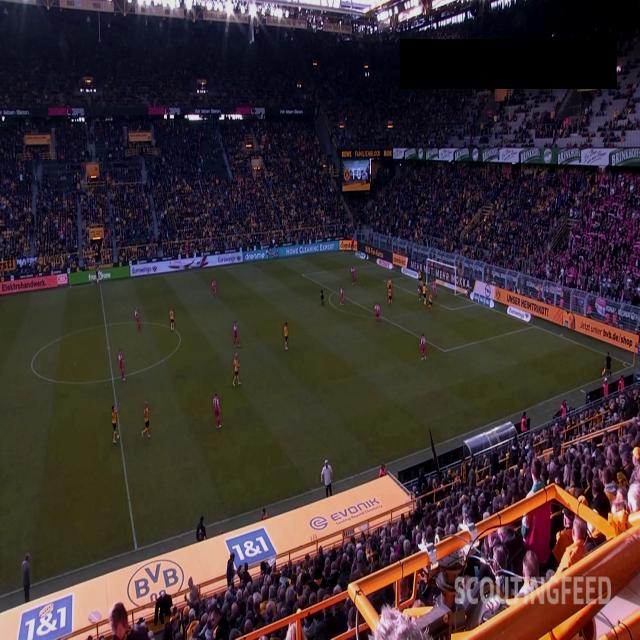ball: (418, 288, 420, 292)
f_player: (110, 400, 122, 444), (140, 398, 152, 438), (211, 392, 222, 429), (232, 352, 242, 388), (117, 347, 126, 383), (419, 332, 427, 362), (232, 320, 240, 348), (282, 321, 289, 351), (373, 302, 381, 326), (134, 306, 141, 332), (210, 278, 218, 300), (169, 306, 175, 332), (422, 282, 428, 306), (339, 284, 345, 307), (350, 264, 356, 286), (432, 280, 438, 300), (388, 284, 393, 308), (428, 290, 433, 312), (417, 283, 423, 301), (418, 268, 423, 286), (388, 276, 392, 288)
umpire: (320, 286, 326, 307)
